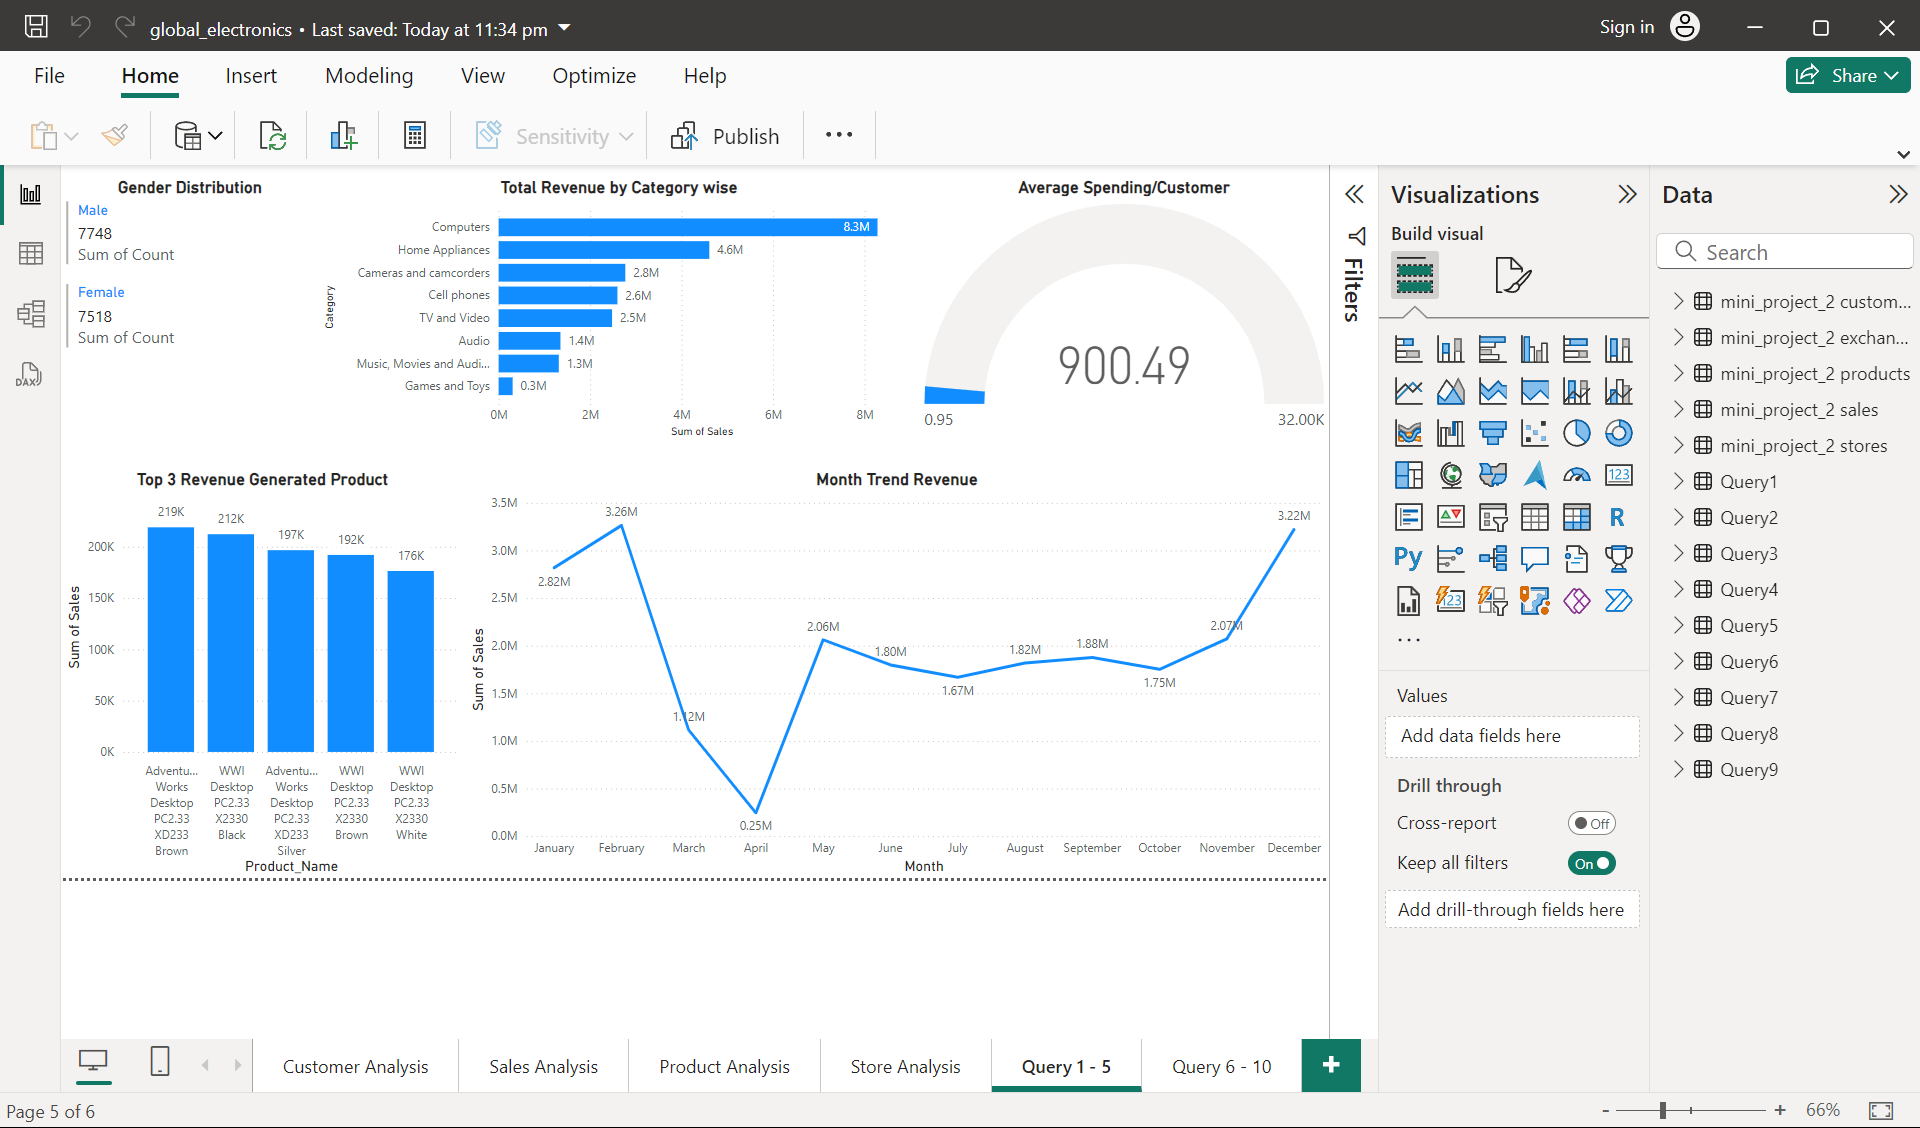

What the dashboard file says about the page in this screenshot:
{"tool":"powerbi","page":{"name":"Query 1 - 5","canvas":[1280,720],"ordinal":4},"visuals":[{"type":"multiRowCard","title":"Gender Distribution","fields":{"Values":["Query1.Gender","Sum(Query1.Count)"]},"box":[0,11.6,260.5,267.4],"z":0},{"type":"barChart","title":"Total Revenue by Category wise","fields":{"Y":["Sum(Query2.Sales)"],"Category":["Query2.Category"]},"box":[260.5,11.6,605.8,267.4],"z":1000},{"type":"lineChart","title":"Month Trend Revenue ","fields":{"Category":["Query3.Order_Date.Variation.Date Hierarchy.Month"],"Y":["Sum(Query3.Sales)"]},"box":[407,307,873.3,412.8],"z":2000},{"type":"lineStackedColumnComboChart","title":"Top 3 Revenue Generated Product","fields":{"Category":["Query4.Product_Name"],"Y":["Sum(Query4.Sales)"]},"box":[0,307,407,412.8],"z":3000},{"type":"gauge","title":"Average Spending/Customer","fields":{"Y":["Avg(Query5.Sales)"],"MinValue":["Min(Query5.Sales)1"],"MaxValue":["Max(Query5.Sales)2"]},"box":[866.3,11.6,414,267.4],"z":4000}]}

Visuals, with their boxes on the page's 1280x720 design canvas (x1, y1, x2, y2). These are canvas units, not pixel positions in the 1920x1128 screenshot, which may show the page scaled, cropped or inside an application window:
"Gender Distribution" multiRowCard: (x1=0, y1=12, x2=260, y2=279)
"Total Revenue by Category wise" barChart: (x1=260, y1=12, x2=866, y2=279)
"Month Trend Revenue " lineChart: (x1=407, y1=307, x2=1280, y2=720)
"Top 3 Revenue Generated Product" lineStackedColumnComboChart: (x1=0, y1=307, x2=407, y2=720)
"Average Spending/Customer" gauge: (x1=866, y1=12, x2=1280, y2=279)
